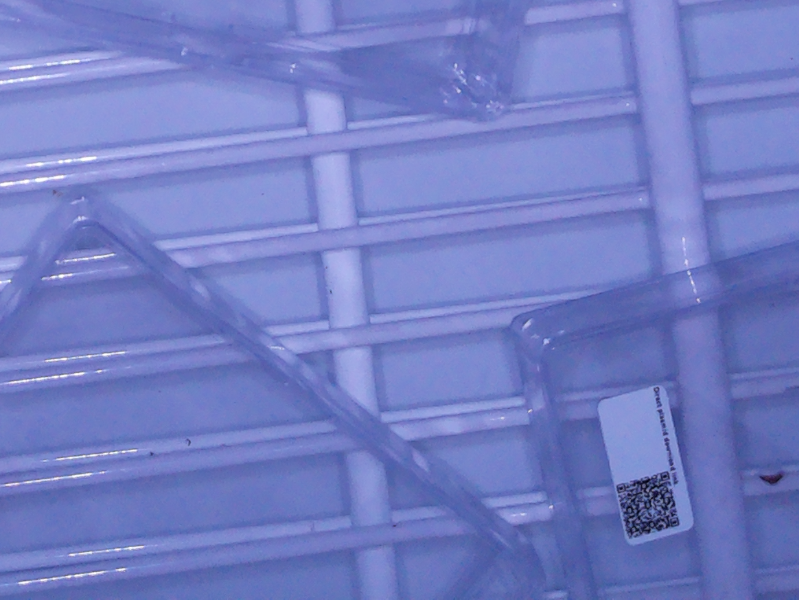plate: (1, 187, 545, 600), (509, 240, 799, 600), (1, 1, 530, 125)
